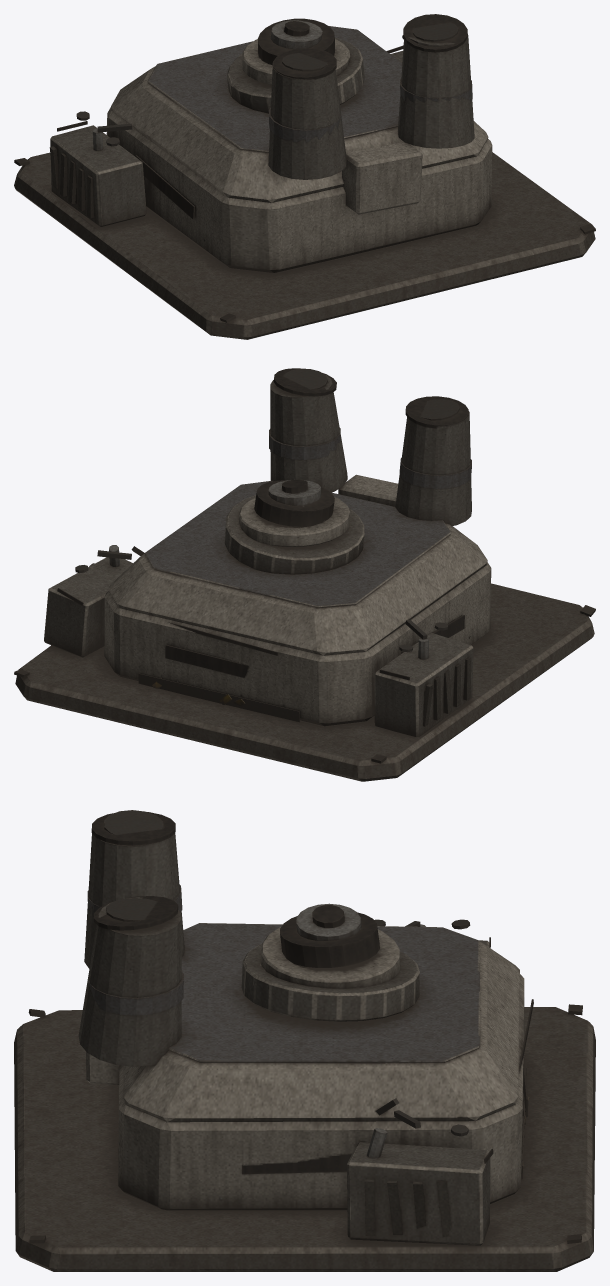
The model's file is ord_generator_wreck.fbx.
3 views of the same model, one above another, from view 1: azimuth 30°, elevation 25°; view 2: azimuth 150°, elevation 25°; view 3: azimuth 270°, elevation 25° (orthographic). The views are drawn at different scales.
Parts seen in each view (by area): view 1: base_bar, core_bar; view 2: base_bar, core_bar; view 3: base_bar, core_bar.
Boxes of the visible parts, bbox=[...] form: base_bar: bbox=[14, 14, 595, 339]; core_bar: bbox=[258, 18, 334, 65]; base_bar: bbox=[14, 368, 595, 781]; core_bar: bbox=[254, 479, 334, 526]; base_bar: bbox=[14, 810, 595, 1271]; core_bar: bbox=[280, 903, 379, 967].
Size of the model in its own units: 1556 by 1052 by 1560.
Materials: 2 (2 with a texture image).
